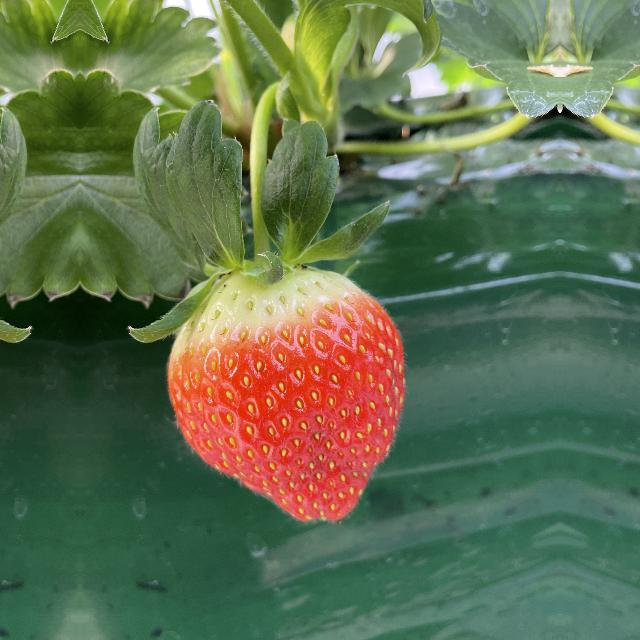Health_100: (150, 260, 412, 526)
